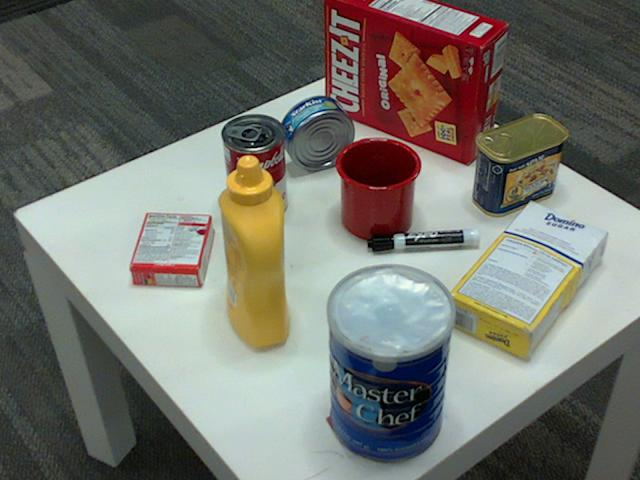cracker_box: (325, 0, 507, 163)
gelatin_box: (126, 210, 210, 284)
large_marker: (368, 233, 480, 251)
master_chef_can: (326, 266, 456, 466)
mug: (332, 136, 420, 240)
mustard_bottle: (216, 155, 287, 348)
potted_meat_can: (472, 115, 566, 217)
sugar_box: (442, 201, 606, 362)
tomato_soup_can: (220, 114, 286, 223)
tuna_fish_can: (277, 95, 353, 170)
